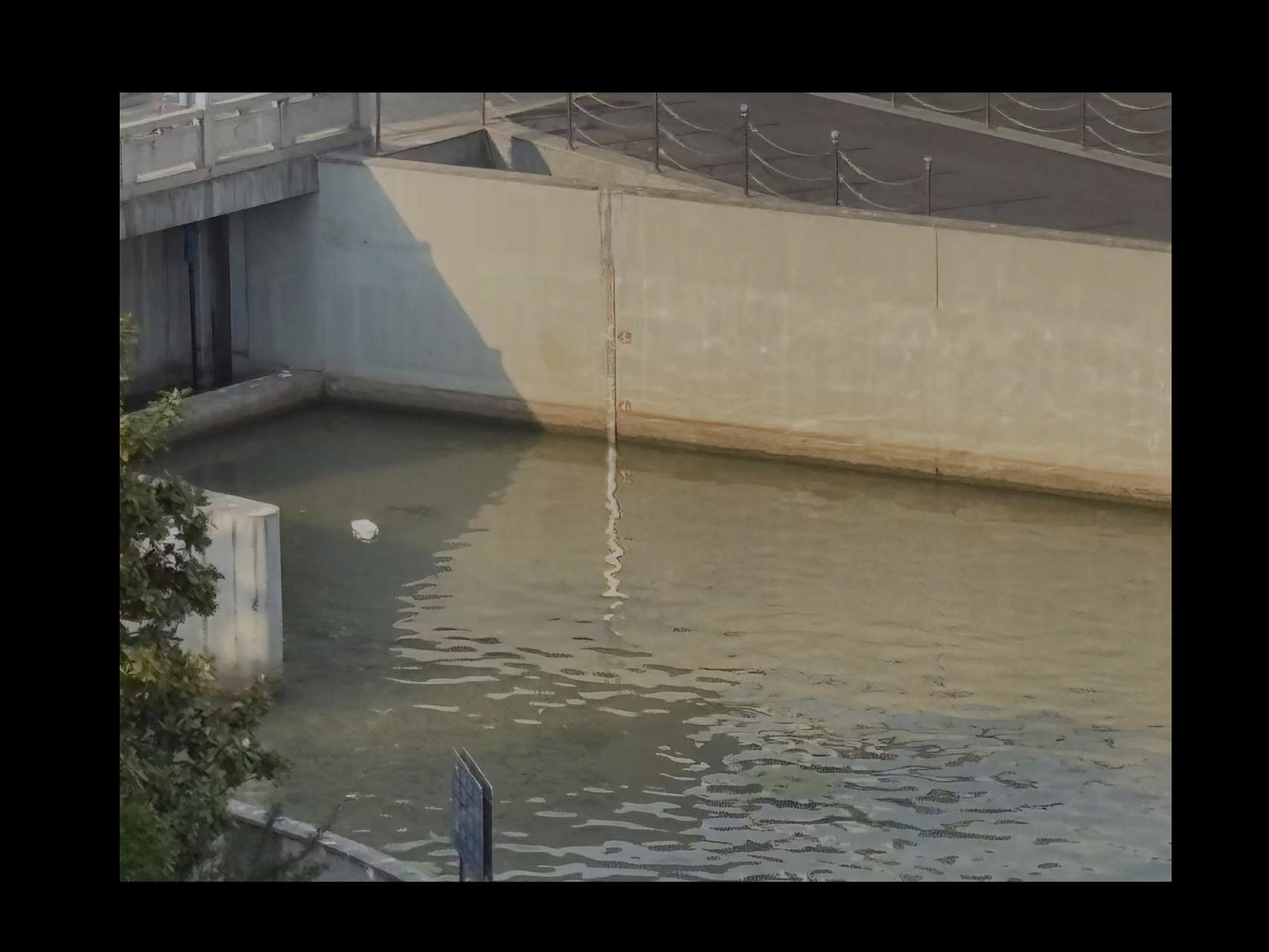Plastic wastes: (349, 515, 381, 544)
